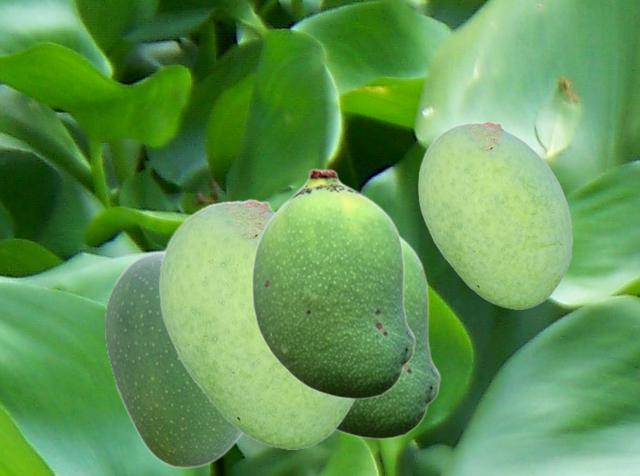green_mango: (159, 198, 357, 448), (251, 168, 415, 399), (104, 251, 243, 467), (418, 120, 571, 308), (335, 235, 440, 439)
